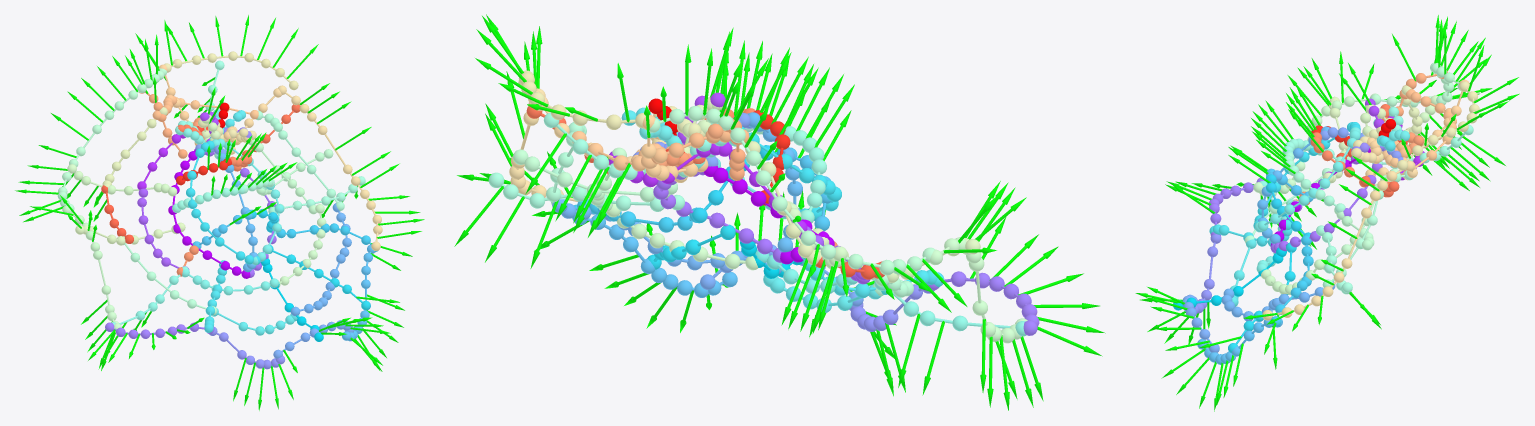
File: cassie_hat.gltf
The picture shows the model from 3 angles, left to right: view 1: azimuth 30°, elevation 25°; view 2: azimuth 150°, elevation 25°; view 3: azimuth 270°, elevation 25°; orthographic projection. The views are drawn at different scales.
Bounding box in the file's own units: 0.8603 × 0.6667 × 0.7108.
